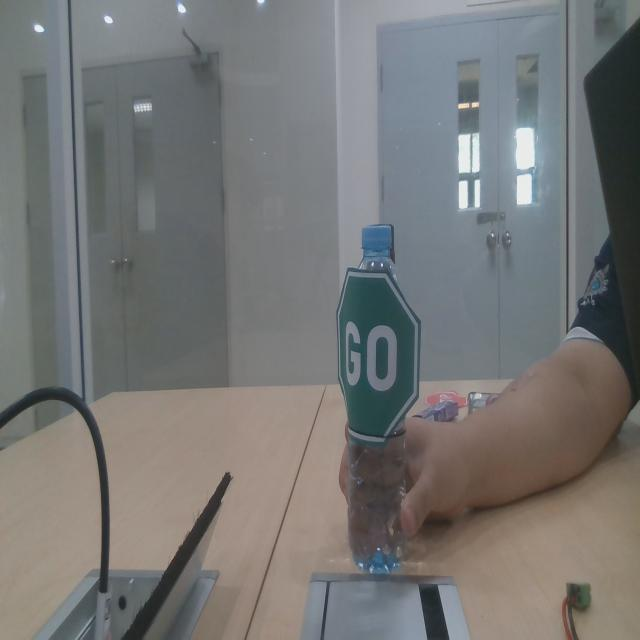Go: (332, 253, 427, 457)
